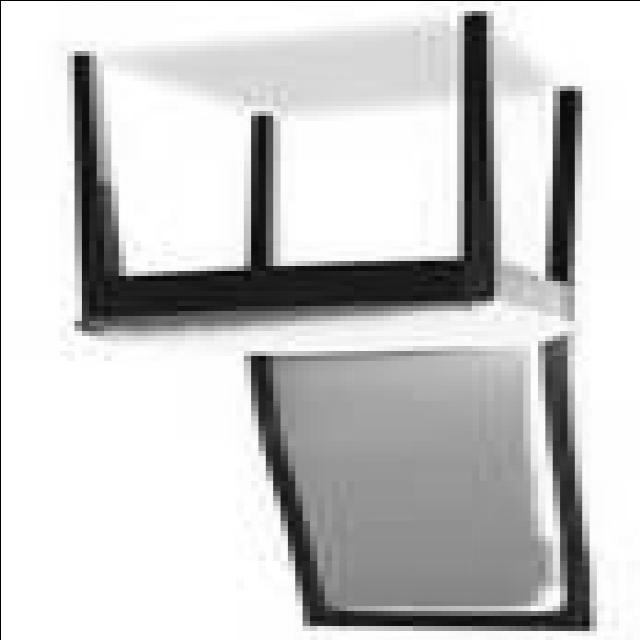chair: (69, 14, 605, 632)
